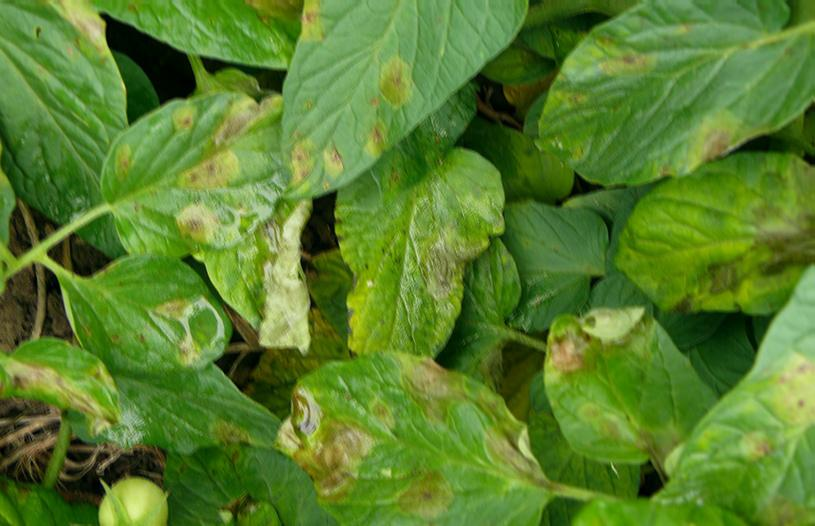Tomato leaf late blight: (256, 0, 594, 246), (531, 0, 815, 203), (281, 335, 553, 526), (301, 115, 493, 377), (82, 77, 316, 271), (533, 267, 720, 503), (605, 140, 815, 329), (44, 241, 239, 381), (0, 328, 138, 450)
